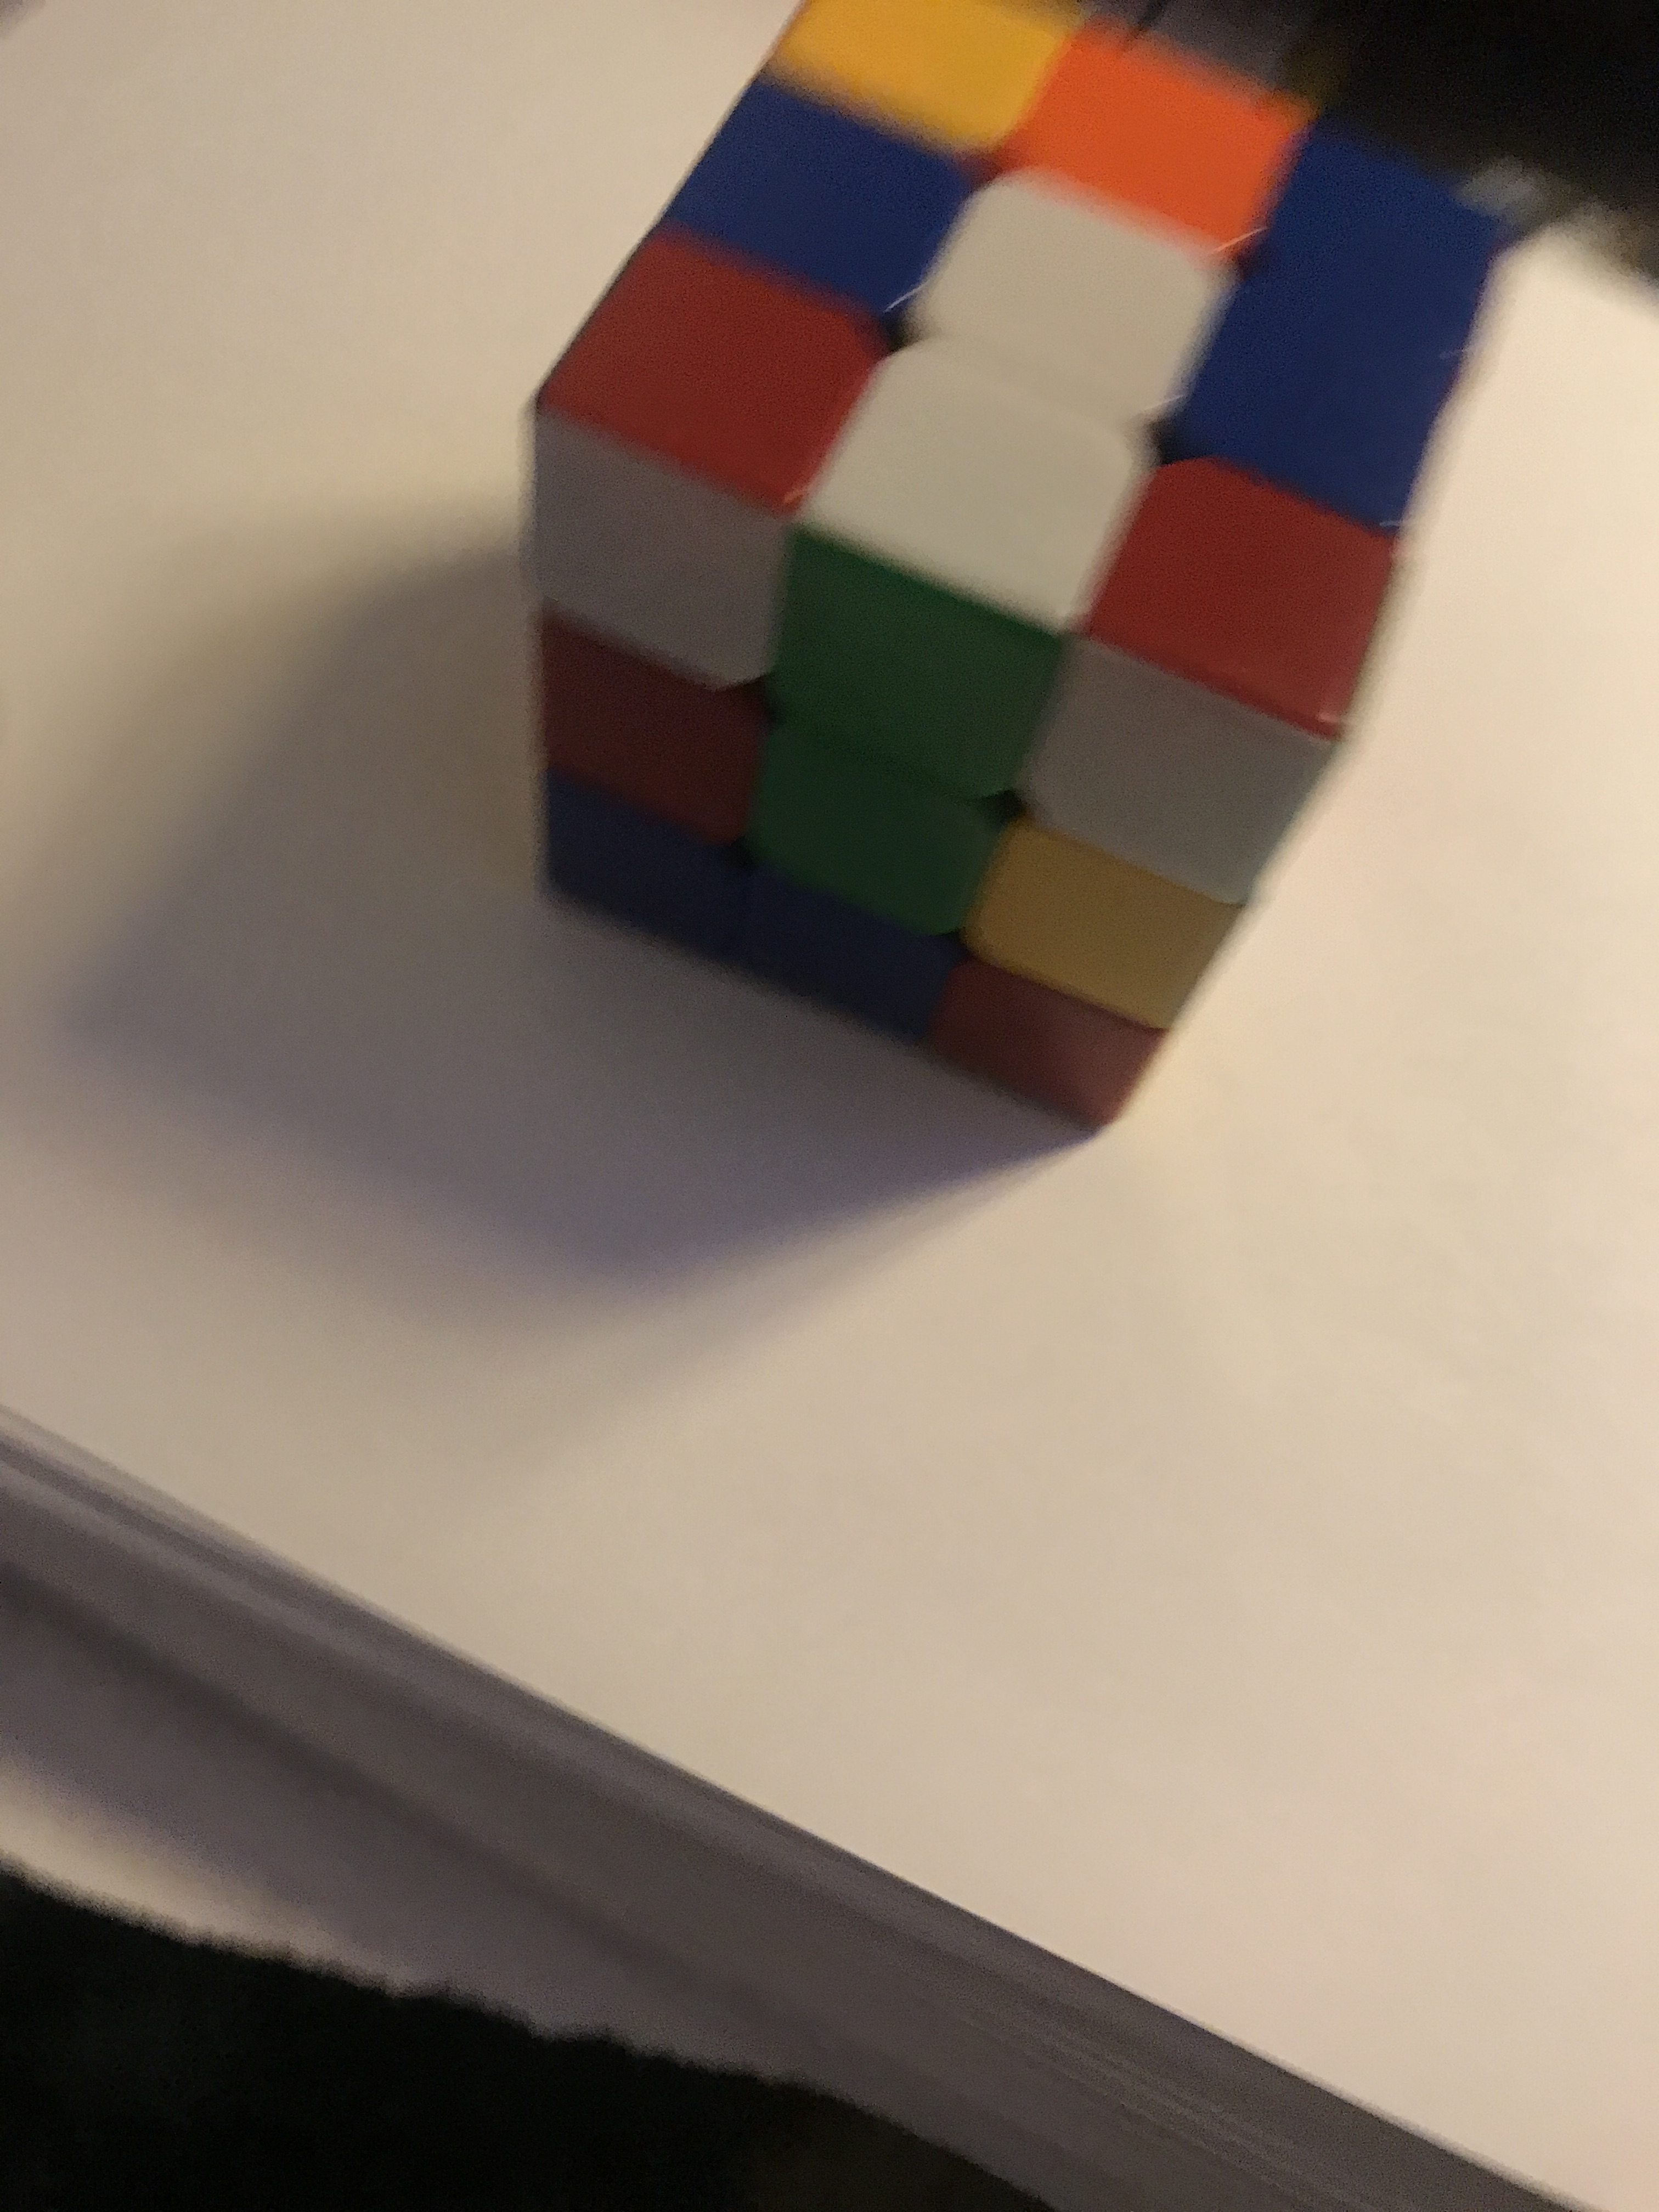rubiks: (469, 14, 1518, 1144)
